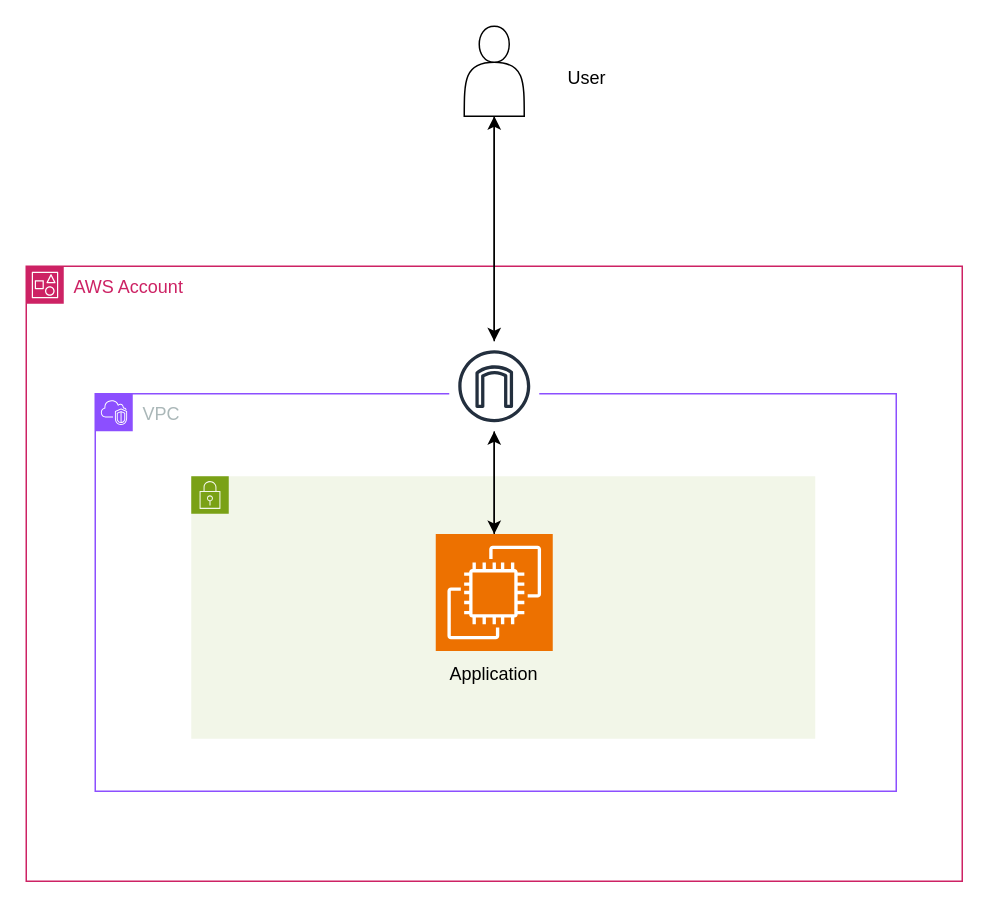
Some shapes in this 989 by 908 pixel diagram are drawn without their labels. The shapes that lost their labels are listed below. From the top down, each one's box as (x1, y1, x2, y2) in pixels, then its label:
(448, 340, 539, 431): Internet gateway
(190, 475, 815, 739): Public subnet
